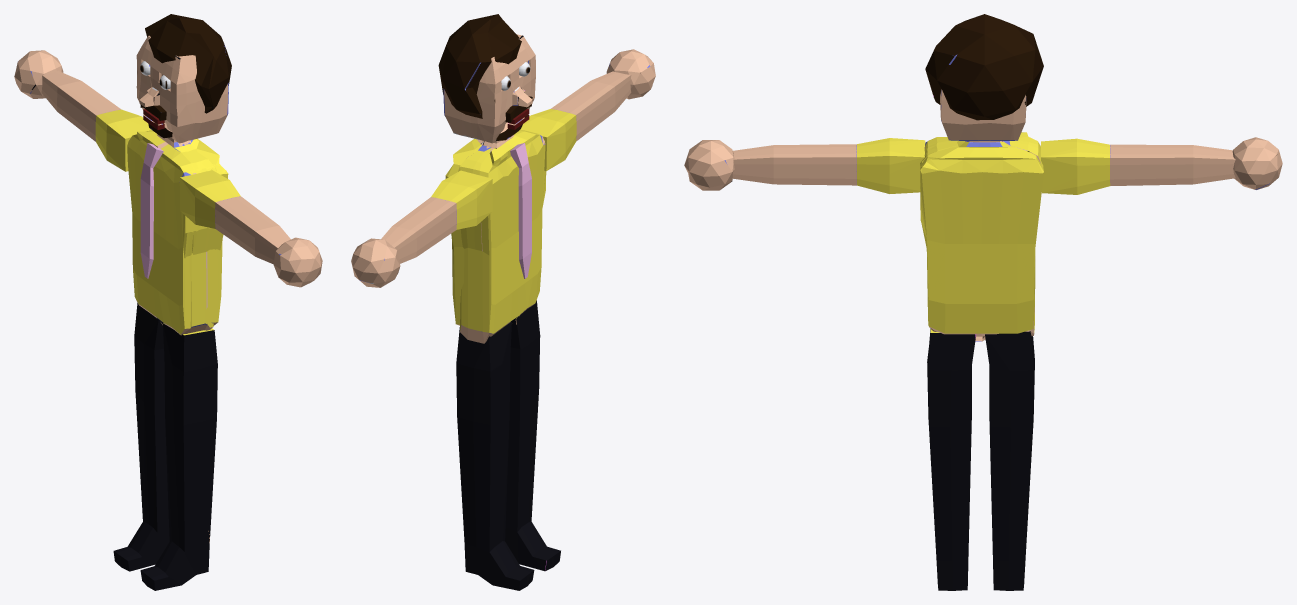
File: Buca.fbx
The picture shows the model from 3 angles, left to right: view 1: azimuth 30°, elevation 25°; view 2: azimuth 150°, elevation 25°; view 3: azimuth 270°, elevation 25°; orthographic projection. The views are drawn at different scales.
Visible parts, largest first — view 1: Cube; view 2: Cube; view 3: Cube.
Boxes of the visible parts, x1=… form: Cube: x1=14, y1=14, x2=322, y2=590; Cube: x1=351, y1=14, x2=655, y2=590; Cube: x1=684, y1=14, x2=1282, y2=590.
Size of the model in its own units: 225 by 1283 by 1198.
